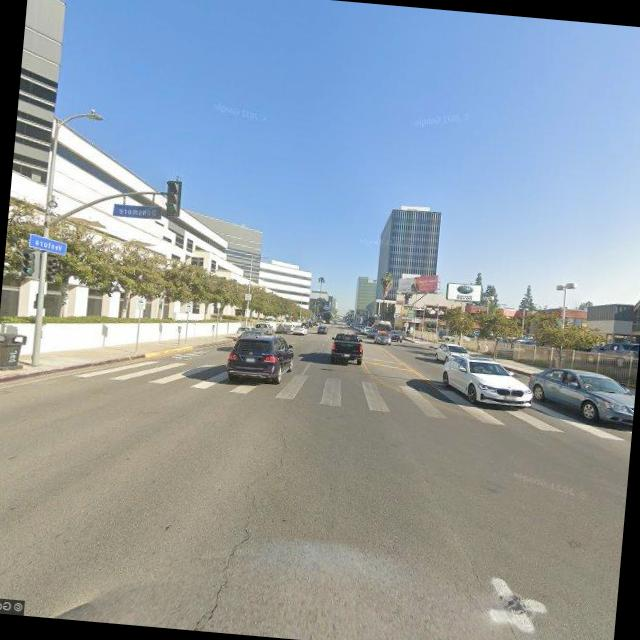pothole: (174, 439, 286, 636)
